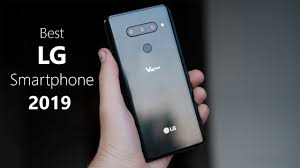lg: (100, 5, 209, 163)
